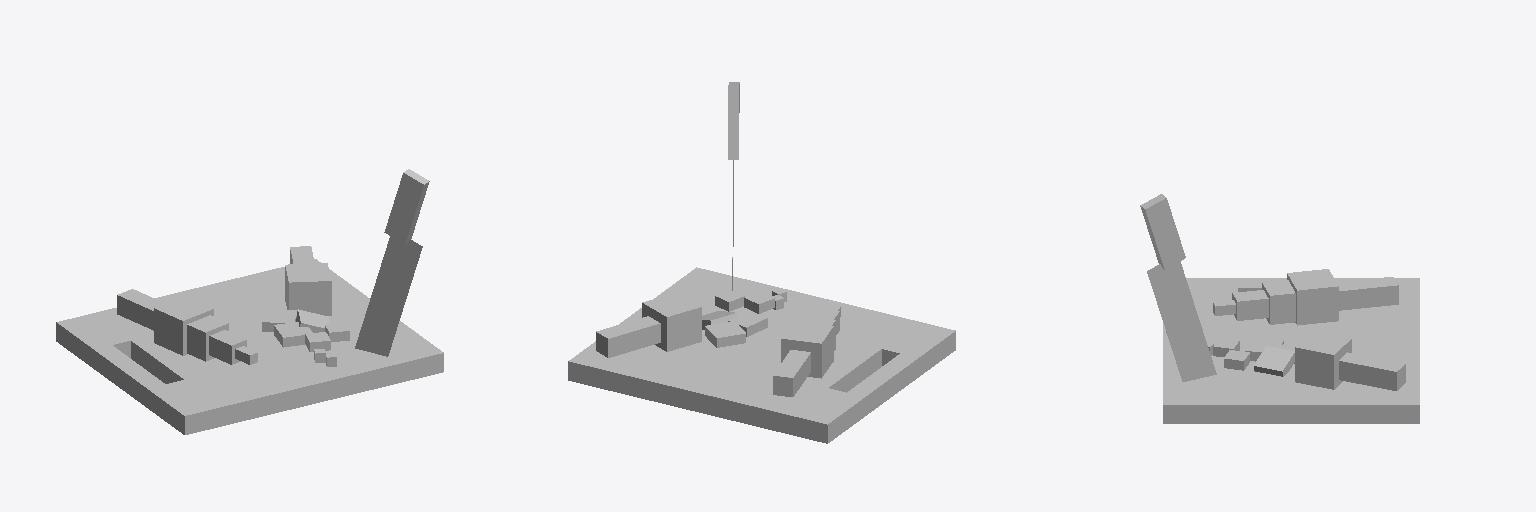
The model's file is 1322_cutting_board.obj.
3 renders of one model, left to right at view 1: azimuth 30°, elevation 25°; view 2: azimuth 150°, elevation 25°; view 3: azimuth 270°, elevation 25°, orthographic.
Visible parts, largest first — view 1: Board, Boardb, Blade, CarrotA, CarrotB, Handle, Carrotb4, Carrotb1, Boardc, Carrotb2, Boardd, Carrot1c (+1 smaller); view 2: Board, Boardb, CarrotA, CarrotB, Carrot4, Carrotb4, Boardd, Handle, Boardc, Carrot1a, Carrot1c; view 3: Board, Blade, CarrotA, CarrotB, Handle, Carrot4, Carrotb4, Boardb, Carrotb1, Carrotb2, Carrot1b.
Boxes of the visible parts, box(x1,y1,x2,y2) form: Board: box(94, 259, 443, 425); Boardb: box(56, 318, 202, 434); Blade: box(355, 236, 422, 356); CarrotA: box(285, 263, 331, 315); CarrotB: box(154, 296, 213, 355); Handle: box(384, 169, 429, 244); Carrotb4: box(117, 289, 164, 330); Carrotb1: box(187, 315, 228, 361); Boardc: box(166, 380, 221, 430); Carrotb2: box(209, 330, 246, 364); Boardd: box(76, 313, 130, 357); Carrot1c: box(274, 322, 312, 347); Board: box(568, 267, 918, 434); Boardb: box(809, 326, 955, 443); CarrotA: box(642, 292, 701, 351); CarrotB: box(781, 321, 833, 378); Carrot4: box(596, 316, 660, 357); Carrotb4: box(773, 350, 810, 396); Boardd: box(791, 388, 845, 438); Handle: box(728, 82, 739, 159); Boardc: box(882, 322, 936, 365); Carrot1a: box(705, 321, 745, 347); Carrot1c: box(728, 309, 767, 336); Board: box(1163, 297, 1419, 423); Blade: box(1147, 261, 1216, 381); CarrotA: box(1295, 331, 1351, 389); CarrotB: box(1287, 269, 1338, 325); Handle: box(1140, 194, 1185, 269); Carrot4: box(1339, 352, 1405, 390); Carrotb4: box(1337, 277, 1398, 310); Boardb: box(1186, 278, 1419, 291); Carrotb1: box(1262, 280, 1295, 324); Carrotb2: box(1232, 290, 1268, 320); Carrot1b: box(1254, 346, 1294, 376).
Size of the model in its own units: 1.75 by 1.36 by 1.63.